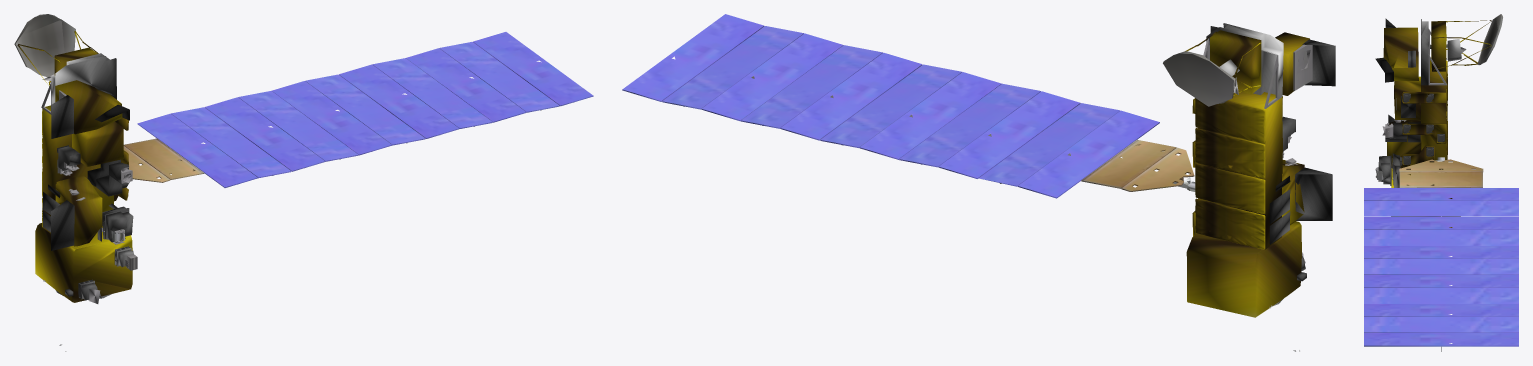
The model's file is aqua.glb.
3 renders of one model, left to right at view 1: azimuth 30°, elevation 25°; view 2: azimuth 150°, elevation 25°; view 3: azimuth 270°, elevation 25°, orthographic. The views are drawn at different scales.
Visible parts, largest first — view 1: shiny_panel, foil_gold, foil_silver, tex_01; view 2: shiny_panel, foil_gold, gold_2, tex_01, foil_silver; view 3: shiny_panel, foil_gold, tex_01, foil_silver, black_krinkle, gold_2.
Boxes of the visible parts, left/top/right/bottom form: shiny_panel: left=137, top=32, right=593, bottom=187; foil_gold: left=17, top=31, right=132, bottom=302; foil_silver: left=42, top=53, right=133, bottom=300; tex_01: left=14, top=14, right=541, bottom=351; shiny_panel: left=622, top=14, right=1159, bottom=198; foil_gold: left=1185, top=30, right=1309, bottom=317; gold_2: left=1195, top=98, right=1265, bottom=249; tex_01: left=683, top=38, right=1312, bottom=351; foil_silver: left=1206, top=23, right=1335, bottom=281; shiny_panel: left=1364, top=188, right=1518, bottom=346; foil_gold: left=1383, top=20, right=1491, bottom=227; tex_01: left=1375, top=14, right=1502, bottom=351; foil_silver: left=1378, top=18, right=1461, bottom=187; black_krinkle: left=1375, top=57, right=1393, bottom=82; gold_2: left=1446, top=60, right=1447, bottom=159.
Bounding box in the file's own units: 1 × 0.5171 × 0.2857.
Materials: 5 (4 with a texture image).
